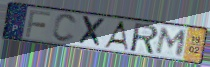A: (102, 20, 130, 52)
C: (51, 13, 79, 44)
F: (24, 9, 53, 39)
M: (154, 26, 189, 58)
R: (130, 22, 160, 56)
X: (76, 15, 107, 49)
